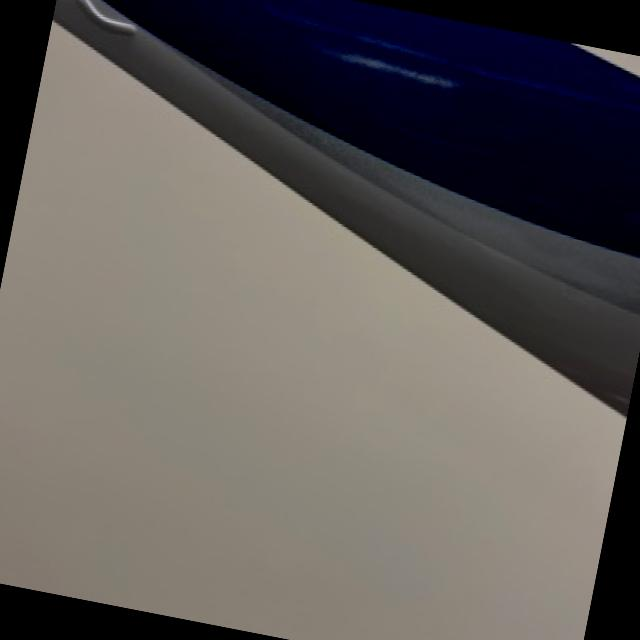healthy: (53, 0, 640, 412)
